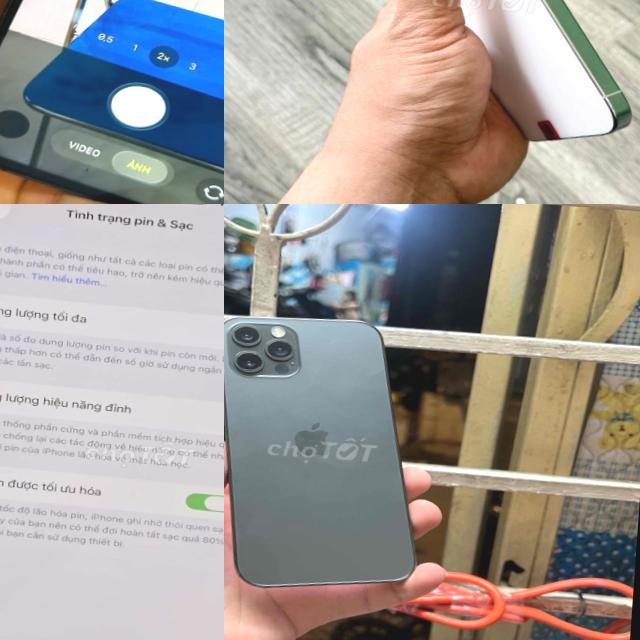gen_12_13: (0, 204, 224, 640), (224, 305, 435, 599)
gen_15: (0, 0, 224, 204)
gen_16: (457, 0, 629, 140)
